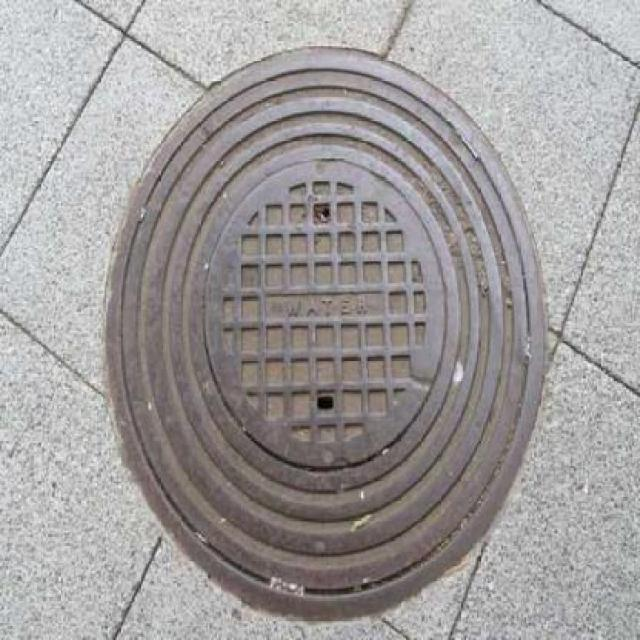Manhole: (83, 32, 566, 626)
